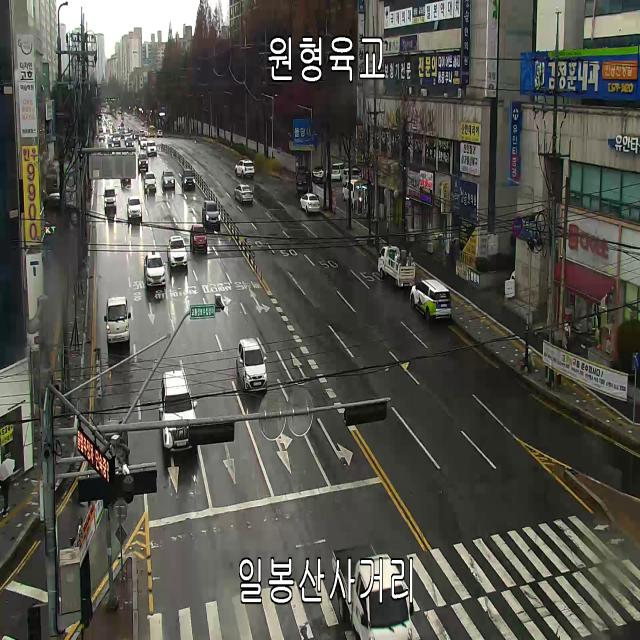Car: (158, 371, 198, 451), (410, 279, 452, 321), (236, 338, 268, 392), (144, 252, 166, 286), (167, 236, 188, 267), (342, 179, 362, 206), (190, 224, 208, 253), (202, 200, 221, 226), (309, 173, 339, 188), (300, 192, 320, 214), (235, 158, 254, 178), (235, 184, 253, 204), (126, 196, 142, 218), (342, 169, 362, 186), (296, 168, 310, 192), (103, 185, 117, 208), (182, 169, 195, 189), (161, 171, 175, 189), (332, 162, 344, 182), (144, 172, 156, 192), (313, 167, 328, 179), (138, 154, 148, 171), (146, 140, 156, 157), (120, 178, 131, 189), (113, 132, 120, 146), (140, 137, 148, 149), (126, 138, 134, 148), (125, 133, 132, 143), (149, 126, 155, 137), (134, 130, 140, 140), (157, 130, 163, 138), (106, 143, 114, 147)
Truck: (332, 544, 414, 640), (378, 245, 416, 288), (104, 296, 131, 342)
